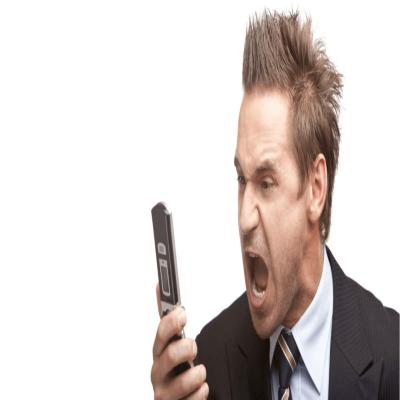angry: (234, 94, 300, 334)
